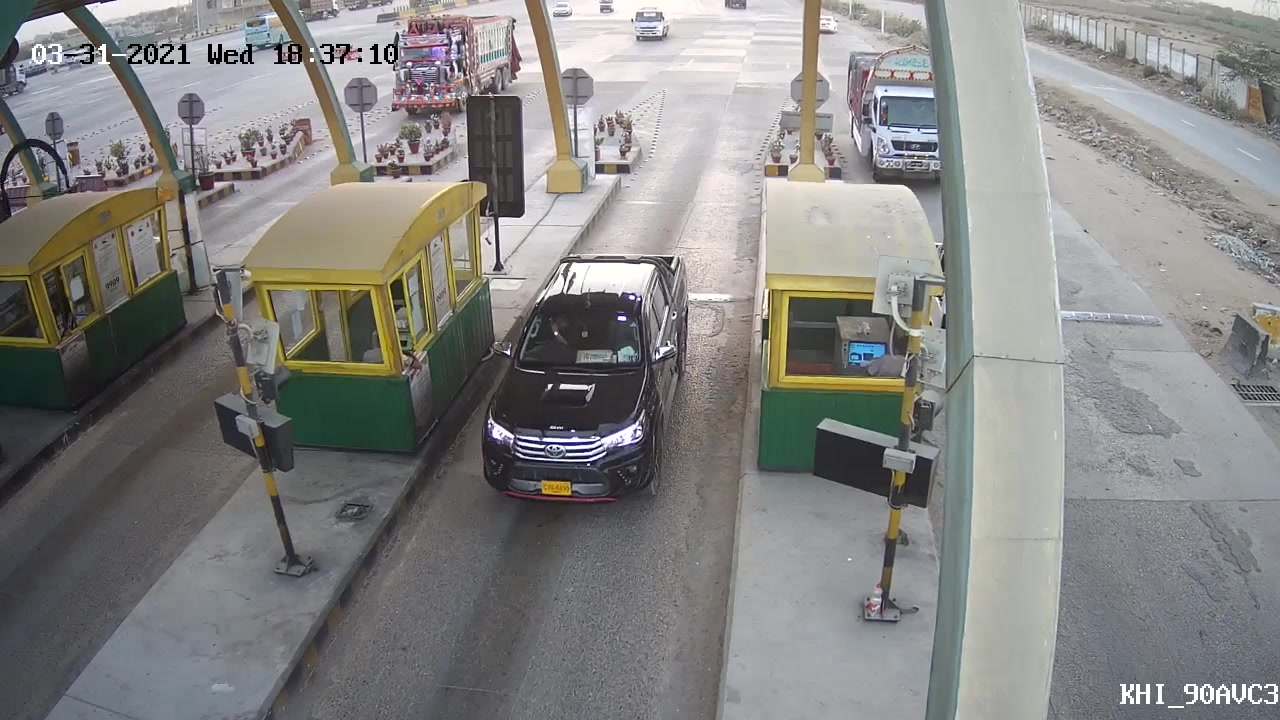F1: (471, 243, 702, 512)
